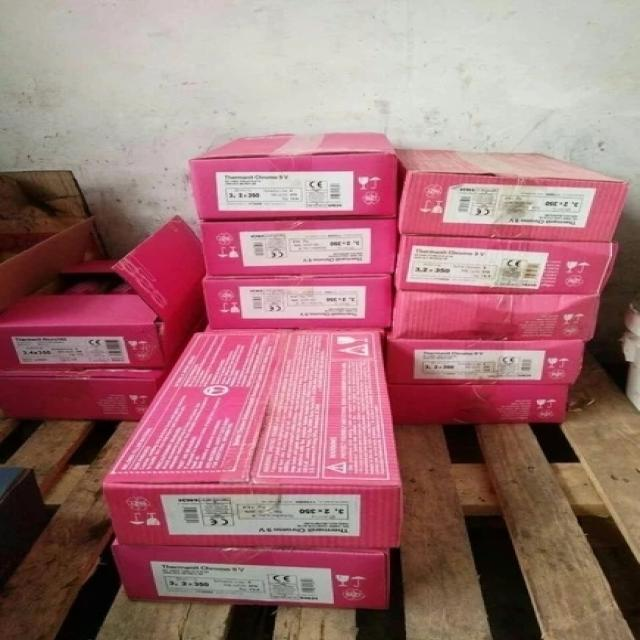box: (104, 330, 399, 547), (399, 151, 628, 243), (115, 543, 390, 610), (190, 135, 397, 220), (399, 234, 615, 295), (203, 220, 394, 275), (390, 291, 597, 340), (205, 275, 390, 329), (387, 334, 583, 382), (0, 375, 168, 423), (391, 382, 572, 423)
